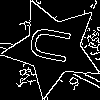U: (28, 23, 81, 68)
